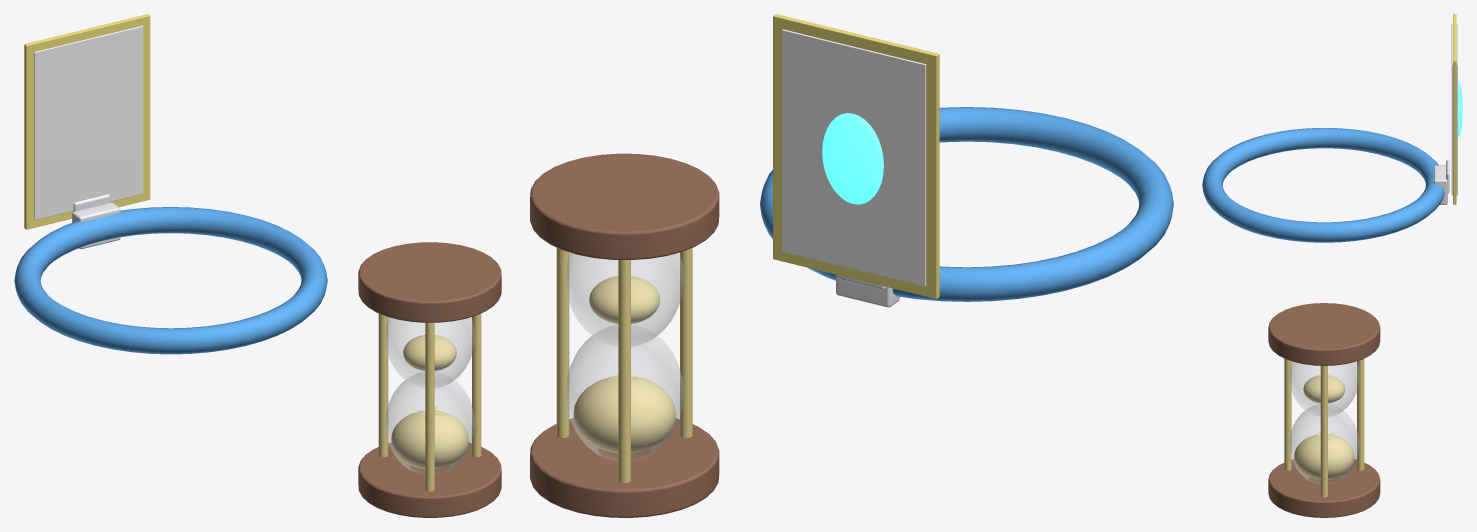
Rendered from hedbanz_pack.glb.
3 renders of one model, left to right at view 1: azimuth 30°, elevation 25°; view 2: azimuth 150°, elevation 25°; view 3: azimuth 270°, elevation 25°, orthographic. The views are drawn at different scales.
Parts seen in each view (by area): view 1: Game_Timer_Hourglass, Mystery_Card_3D, Avatar_Headband_Pro; view 2: Game_Timer_Hourglass, Mystery_Card_3D, Avatar_Headband_Pro; view 3: Game_Timer_Hourglass, Avatar_Headband_Pro, Mystery_Card_3D.
Boxes of the visible parts, x1,y1,x2,y2 form: Game_Timer_Hourglass: [358, 242, 501, 517]; Mystery_Card_3D: [24, 14, 150, 229]; Avatar_Headband_Pro: [14, 194, 327, 354]; Game_Timer_Hourglass: [530, 153, 719, 517]; Mystery_Card_3D: [773, 14, 939, 298]; Avatar_Headband_Pro: [760, 107, 1173, 307]; Game_Timer_Hourglass: [1268, 303, 1380, 517]; Avatar_Headband_Pro: [1202, 127, 1449, 242]; Mystery_Card_3D: [1451, 14, 1462, 204].
Size of the model in its own units: 0.882 by 0.85 by 0.559.
